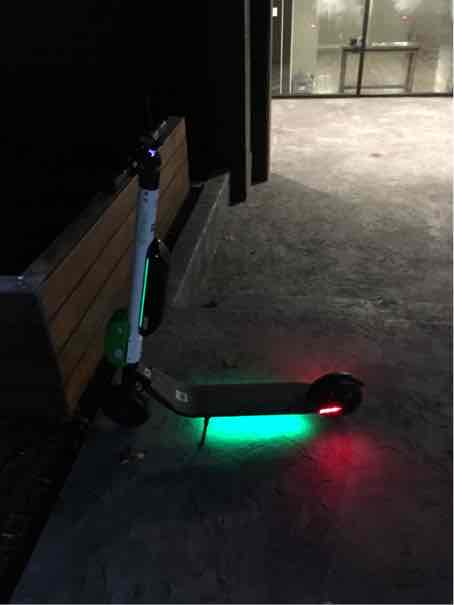scooter: (80, 117, 376, 451)
